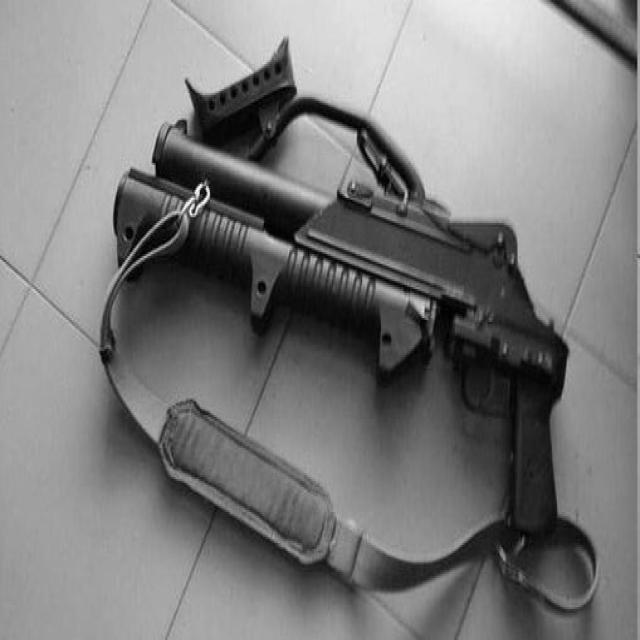Lancher: (85, 39, 608, 561)
